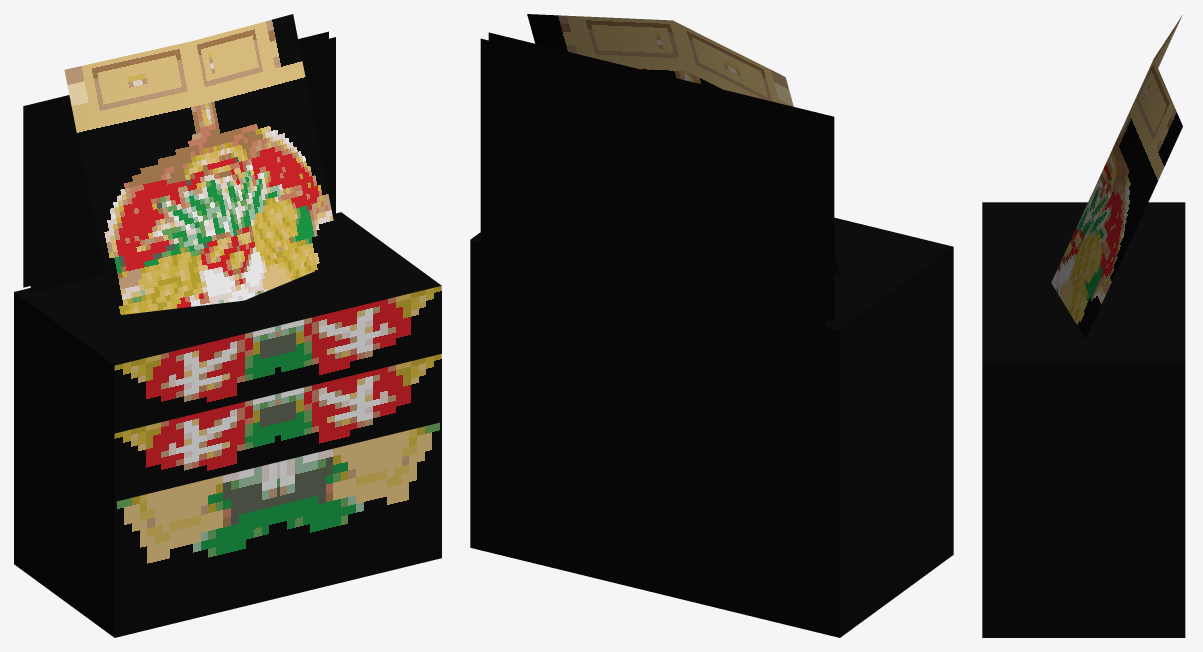
3 renders of one model, left to right at view 1: azimuth 30°, elevation 25°; view 2: azimuth 150°, elevation 25°; view 3: azimuth 270°, elevation 25°, orthographic. The views are drawn at different scales.
Parts seen in each view (by area): view 1: 3805kg_sh1_28; view 2: 3805kg_sh1_28; view 3: 3805kg_sh1_28.
Part boxes in pixels (left/top/right/bottom): 3805kg_sh1_28: left=14, top=14, right=441, bottom=637; 3805kg_sh1_28: left=470, top=14, right=953, bottom=637; 3805kg_sh1_28: left=982, top=15, right=1185, bottom=637.
Bounding box in the file's own units: 0.9419 × 1.36 × 0.51.
Materials: 1 (1 with a texture image).
